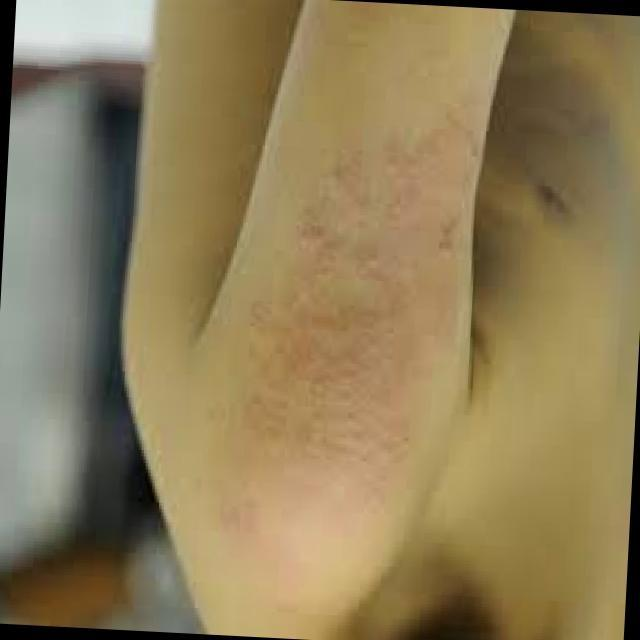Eczema: (247, 103, 491, 476)
